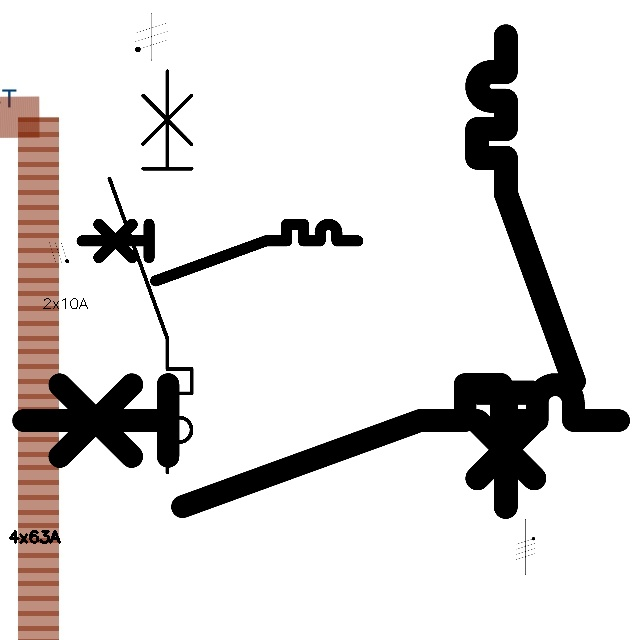interruptor_termomagnetico: (8, 369, 634, 522), (465, 24, 586, 519), (99, 60, 202, 482), (74, 217, 364, 288)
